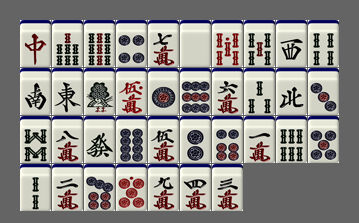0m: (116, 68, 147, 115)
0p: (116, 164, 147, 211)
0s: (212, 20, 243, 67)
1m: (244, 116, 275, 163)
1p: (148, 68, 179, 115)
1s: (84, 68, 115, 115)
1z: (52, 68, 83, 115)
2m: (52, 164, 83, 211)
2p: (180, 116, 211, 163)
2s: (20, 164, 51, 211)
2z: (20, 68, 51, 115)
3m: (212, 164, 243, 211)
3p: (308, 68, 339, 115)
3s: (244, 68, 275, 115)
3z: (276, 20, 307, 67)
4m: (180, 164, 211, 211)
4p: (116, 20, 147, 67)
4s: (308, 20, 339, 67)
4z: (276, 68, 307, 115)
5m: (148, 116, 179, 163)
5p: (308, 116, 339, 163)
5s: (244, 20, 275, 67)
5z: (180, 20, 211, 67)
6m: (212, 68, 243, 115)
6p: (212, 116, 243, 163)
6s: (276, 116, 307, 163)
6z: (84, 116, 115, 163)
7m: (148, 20, 179, 67)
7p: (84, 164, 115, 211)
7s: (52, 20, 83, 67)
7z: (20, 20, 51, 67)
8m: (52, 116, 83, 163)
8p: (116, 116, 147, 163)
8s: (20, 116, 51, 163)
9m: (148, 164, 179, 211)
9p: (180, 68, 211, 115)
9s: (84, 20, 115, 67)
